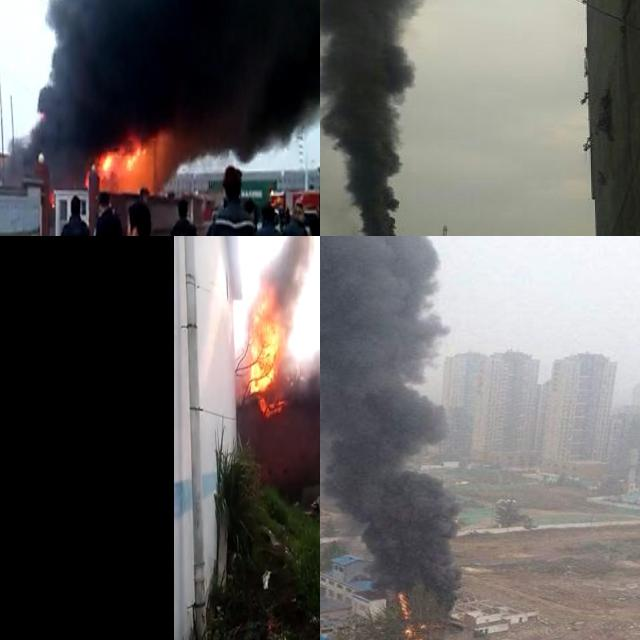fire: (247, 290, 284, 398), (96, 138, 144, 181), (393, 591, 425, 640)
smoke: (10, 0, 320, 175), (320, 236, 462, 617), (320, 0, 457, 236), (239, 236, 320, 319)
